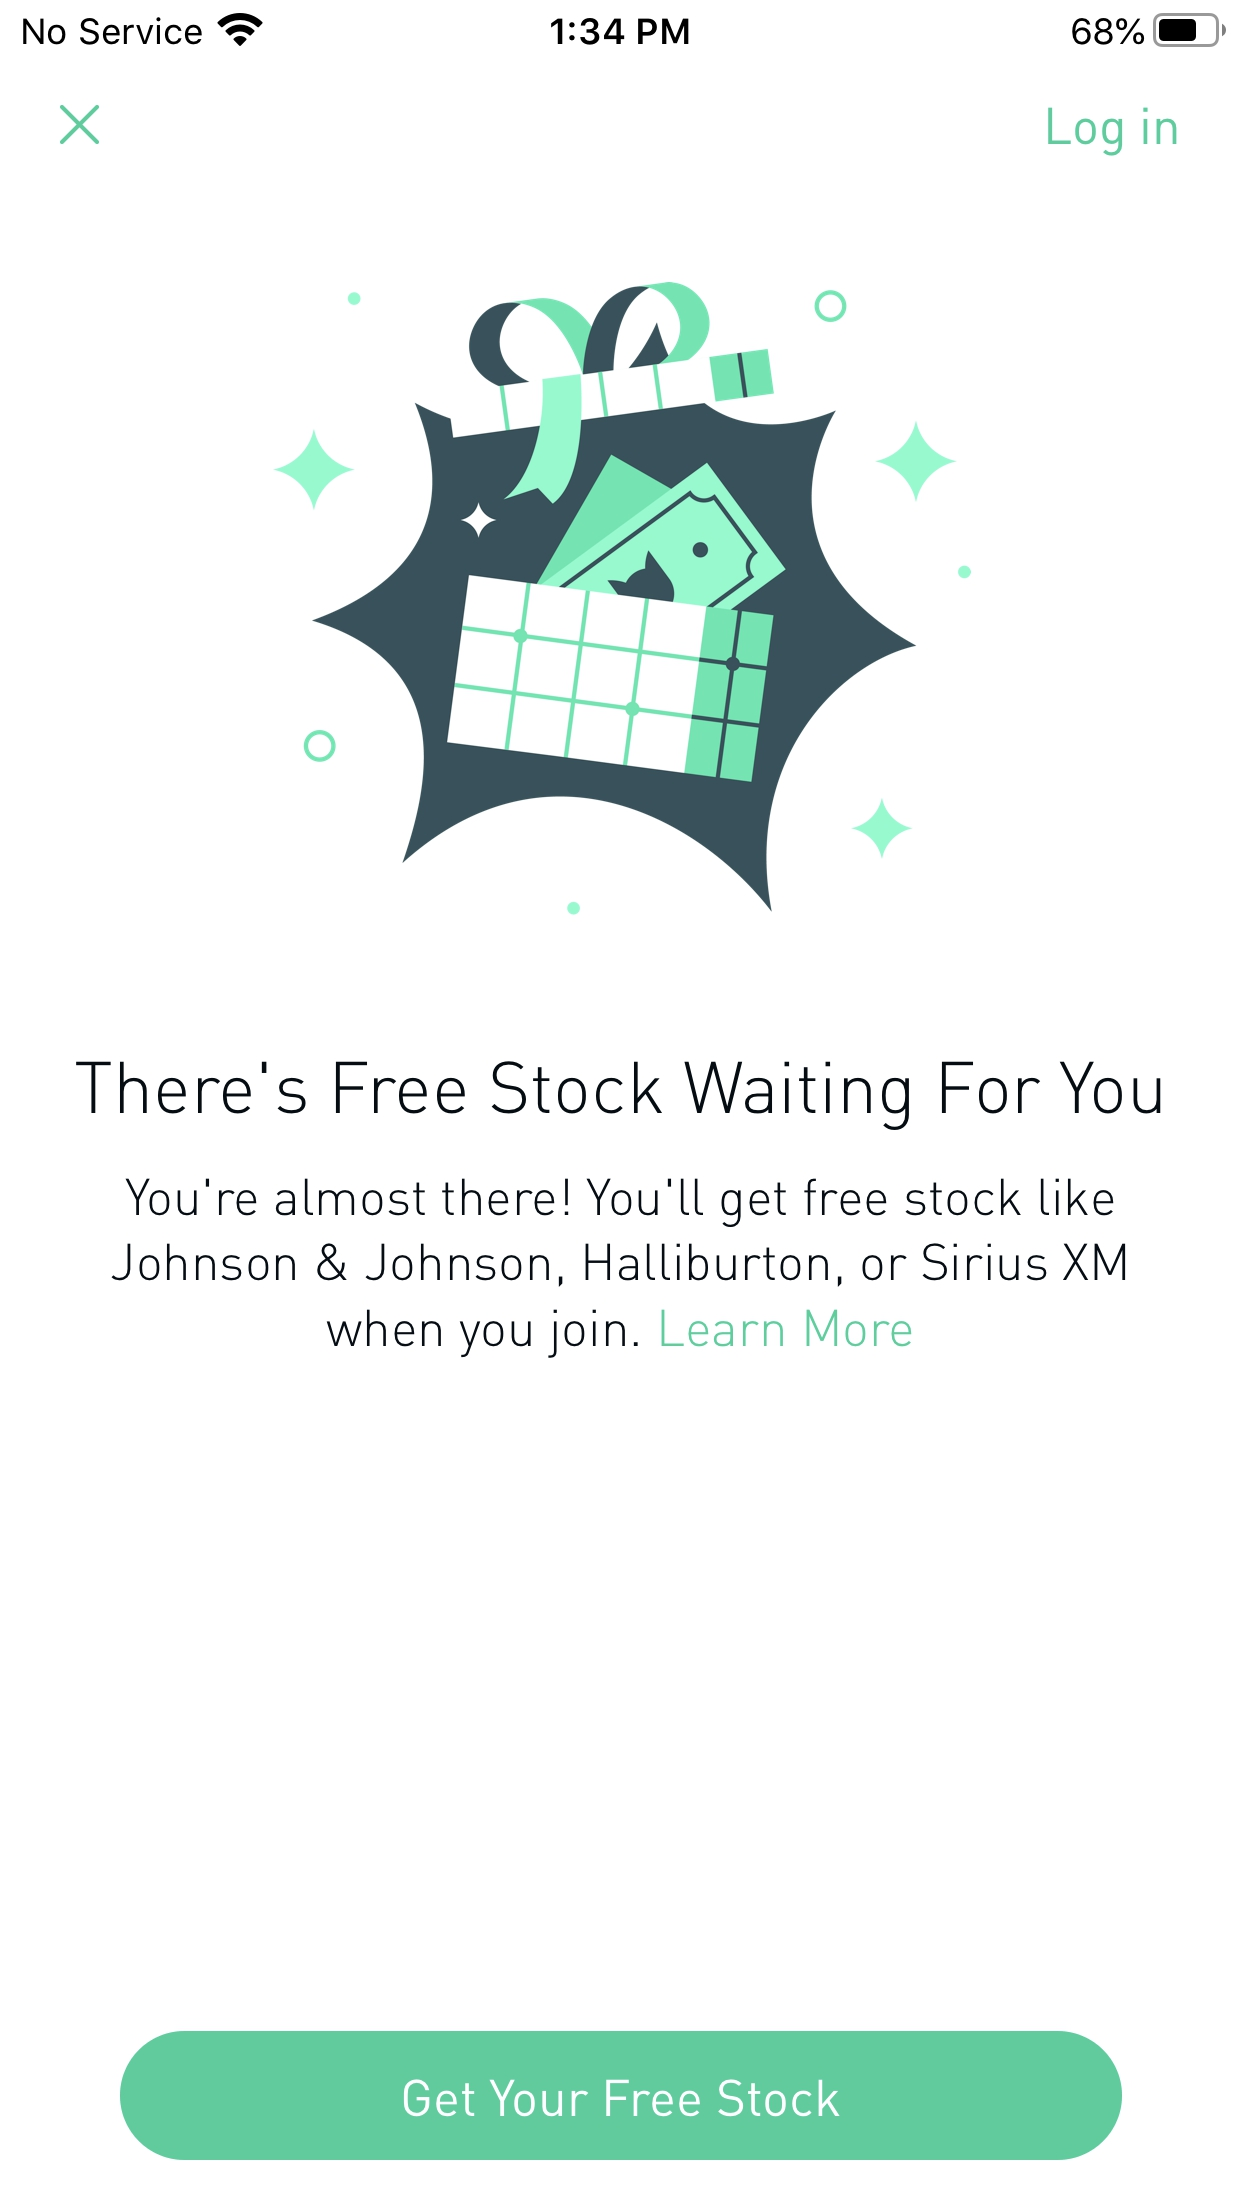Icon: (61, 106, 99, 144)
Image: (274, 284, 971, 914)
Text: (112, 1178, 1127, 1357), (76, 1062, 1162, 1130), (1048, 108, 1175, 156)
TextButton: (120, 2031, 1122, 2159)
UpperTaskBar: (2, 2, 1242, 49)
